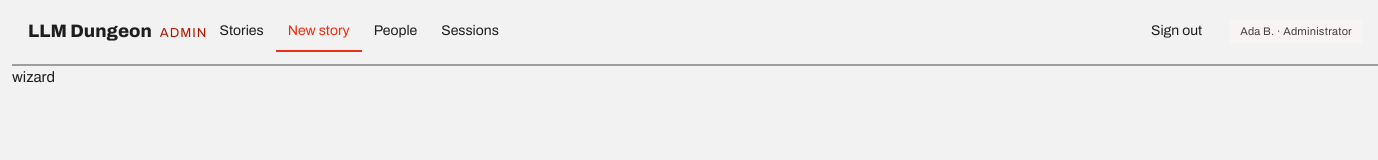
Test case: Reaching any section from the wizard in one click (US1, SC-001) › reaches People from the wizard without a back button
The image size is (1378, 160).
Step 1. Click the link "People" → (396, 30), box x1=374 y1=23 x2=417 y2=38
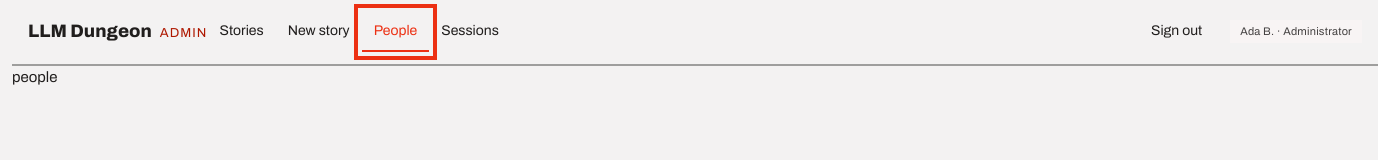
Expected: the link "New story" is shown, x1=288 y1=23 x2=350 y2=38
Expected: the text "people" is shown, x1=12 y1=69 x2=57 y2=85
